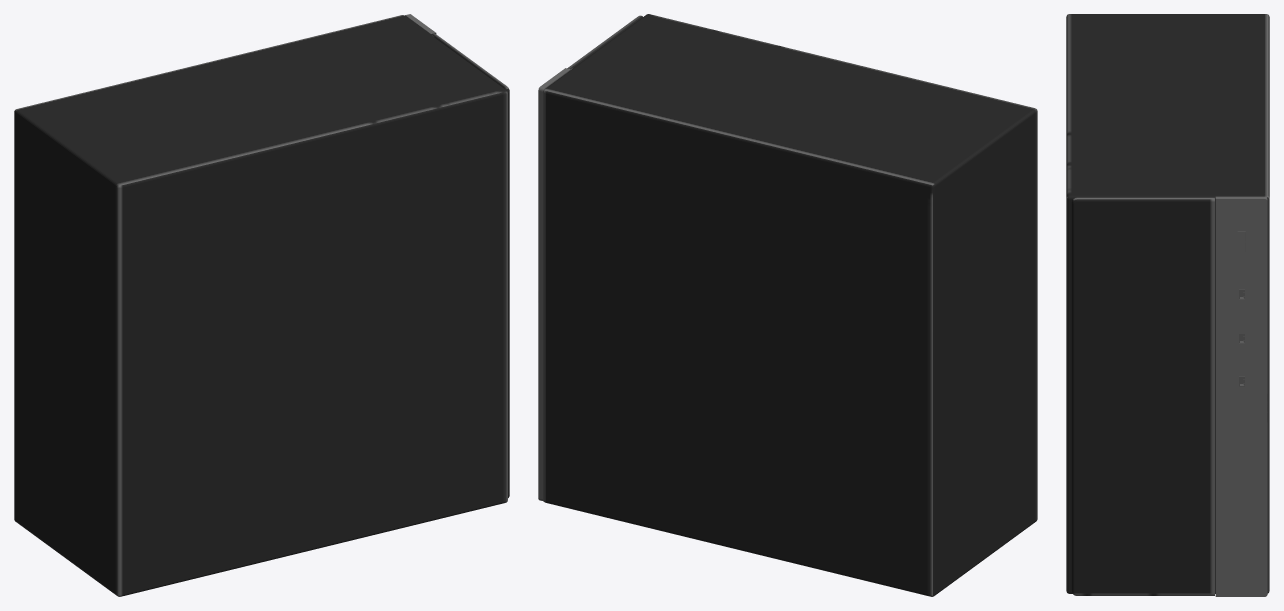
Rendered from Computer.fbx.
3 views of the same model, side by side, from view 1: azimuth 30°, elevation 25°; view 2: azimuth 150°, elevation 25°; view 3: azimuth 270°, elevation 25° (orthographic). The views are drawn at different scales.
Visible parts, largest first — view 1: Cube; view 2: Cube, Plane; view 3: Cube, Plane.
Boxes of the visible parts, x1,y1,x2,y2 form: Cube: [14, 15, 509, 596]; Cube: [543, 14, 1037, 596]; Plane: [538, 68, 570, 500]; Cube: [1066, 14, 1269, 595]; Plane: [1215, 196, 1267, 596].
Size of the model in its own units: 848 by 844 by 390.
